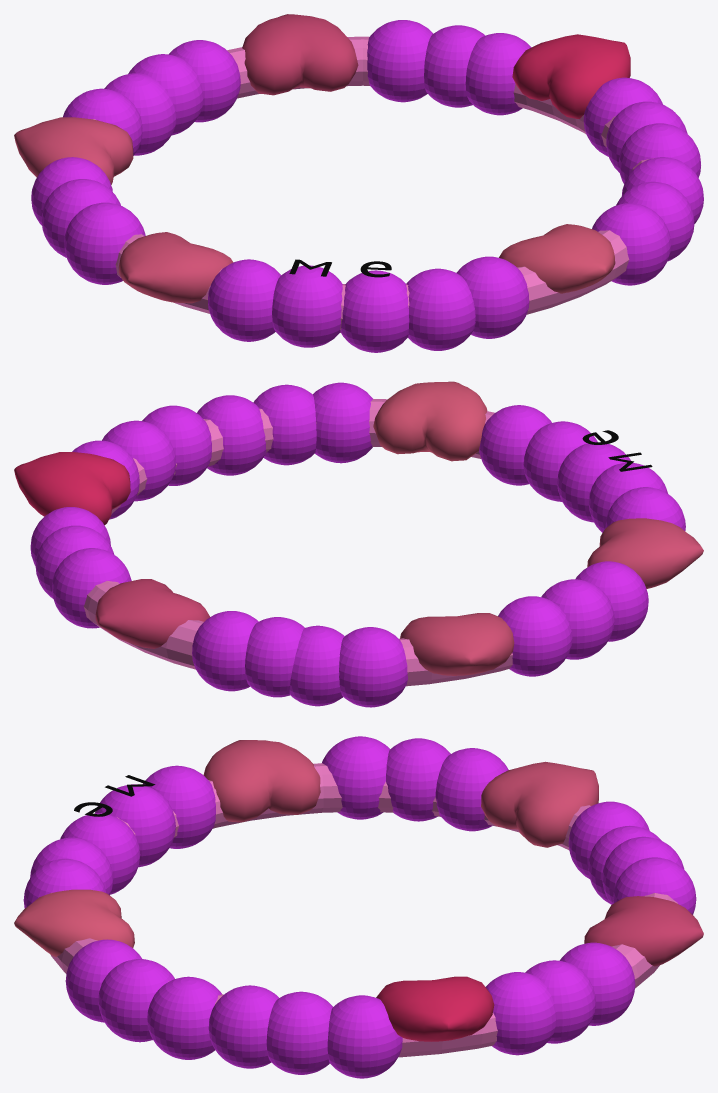
File: Lover_ME.fbx
The picture shows the model from 3 angles, top to bottom: view 1: azimuth 30°, elevation 25°; view 2: azimuth 150°, elevation 25°; view 3: azimuth 270°, elevation 25°; orthographic projection. The views are drawn at different scales.
Parts seen in each view (by area): view 1: Vert.003, Vert.001, Vert.004, Torus.001, Vert.005, Vert.002, Sphere.016, Sphere.019, Sphere.017, Sphere.015, Sphere.010, Sphere.009 (+15 smaller); view 2: Vert.005, Vert.001, Vert.002, Vert.003, Vert.004, Torus.001, Sphere.011, Sphere.021, Sphere.006, Sphere.018, Sphere.005, Sphere.004 (+15 smaller); view 3: Vert.004, Vert.002, Vert.001, Torus.001, Vert.005, Vert.003, Sphere.002, Sphere.004, Sphere.003, Sphere.007, Sphere.012, Sphere.005 (+15 smaller).
Part boxes in pixels (left/top/right/bottom): Vert.003: left=242, top=14, right=358, bottom=95; Vert.001: left=512, top=34, right=630, bottom=118; Vert.004: left=118, top=232, right=233, bottom=303; Torus.001: left=92, top=36, right=653, bottom=332; Vert.005: left=499, top=224, right=615, bottom=293; Vert.002: left=14, top=117, right=133, bottom=184; Sphere.016: left=272, top=265, right=342, bottom=347; Sphere.019: left=406, top=268, right=475, bottom=350; Sphere.017: left=340, top=270, right=409, bottom=352; Sphere.015: left=208, top=259, right=281, bottom=341; Sphere.010: left=64, top=202, right=145, bottom=284; Sphere.009: left=367, top=20, right=433, bottom=102; Vert.005: left=373, top=381, right=487, bottom=461; Vert.001: left=14, top=452, right=130, bottom=525; Vert.002: left=400, top=613, right=514, bottom=675; Vert.003: left=95, top=579, right=209, bottom=648; Vert.004: left=587, top=518, right=703, bottom=588; Torus.001: left=83, top=399, right=512, bottom=686; Sphere.011: left=339, top=627, right=407, bottom=707; Sphere.021: left=498, top=596, right=572, bottom=676; Sphere.006: left=313, top=382, right=372, bottom=463; Sphere.018: left=192, top=611, right=258, bottom=691; Sphere.005: left=253, top=384, right=316, bottom=465; Sphere.004: left=197, top=395, right=266, bottom=475; Vert.004: left=203, top=740, right=320, bottom=822; Vert.002: left=481, top=761, right=598, bottom=847; Vert.001: left=376, top=976, right=494, bottom=1041; Torus.001: left=50, top=763, right=677, bottom=1057; Vert.005: left=14, top=889, right=134, bottom=957; Vert.003: left=584, top=896, right=703, bottom=966; Sphere.002: left=327, top=995, right=402, bottom=1078; Sphere.004: left=147, top=976, right=221, bottom=1059; Sphere.003: left=266, top=991, right=332, bottom=1074; Sphere.007: left=486, top=972, right=556, bottom=1055; Sphere.012: left=208, top=985, right=278, bottom=1068; Sphere.005: left=98, top=959, right=174, bottom=1042.
Size of the model in its own units: 118 by 17.15 by 116.
